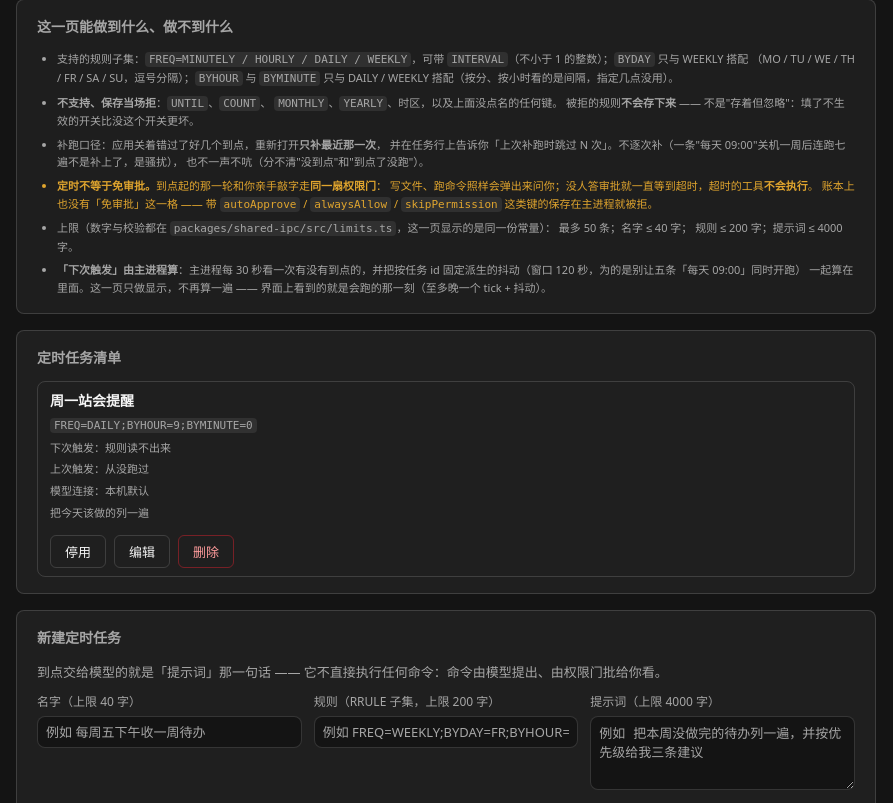
Scenario: 定时页 · 写完重读 › 取消编辑说的是"清单没动"，不是失败
Expected: the text "周一站会提醒" is shown, [50,390,134,412]
Click the button "编辑" at [142, 552], box [114,535,170,568]
(page scrolled)
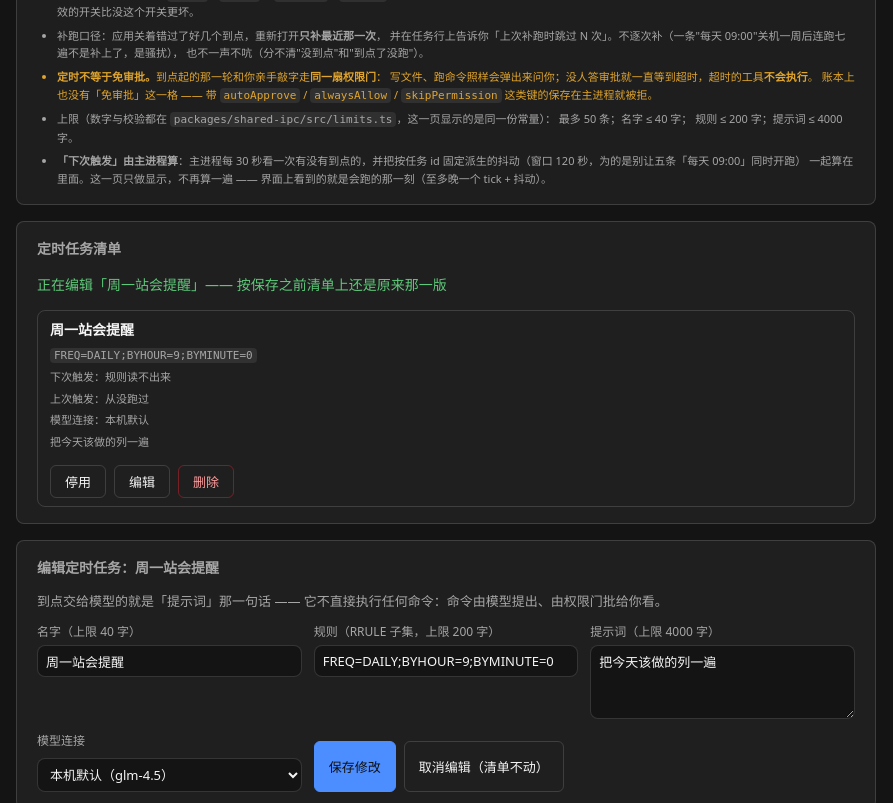
Click the button "取消编辑（清单不动）" at [484, 767], box [404,741,564,792]
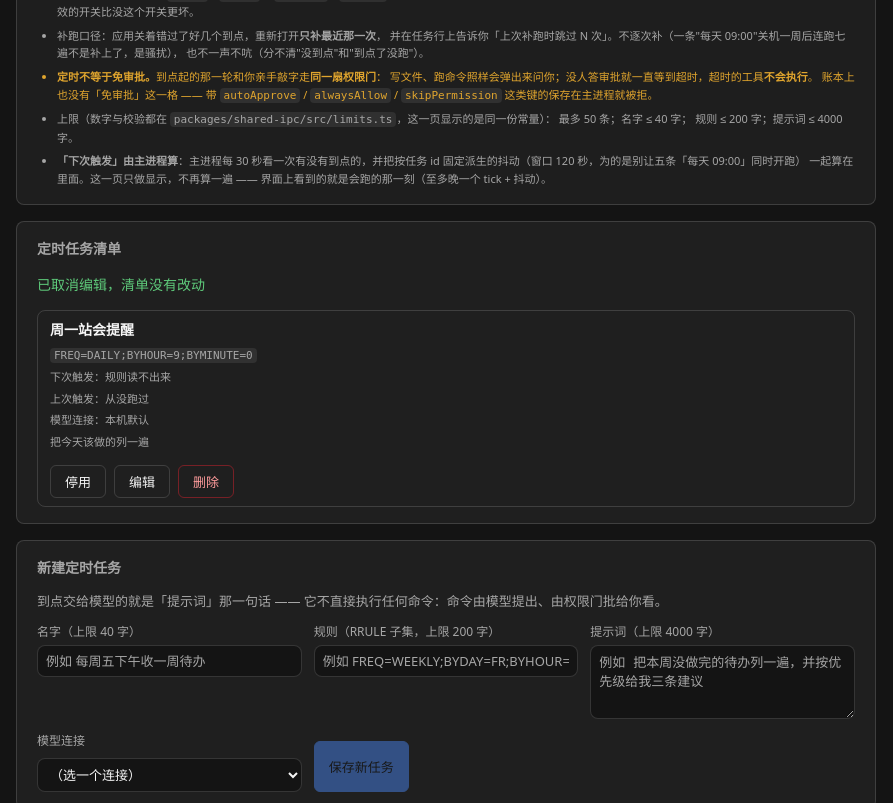
Now the message "已取消编辑，清单没有改动" is shown, box [37,275,205,294]
